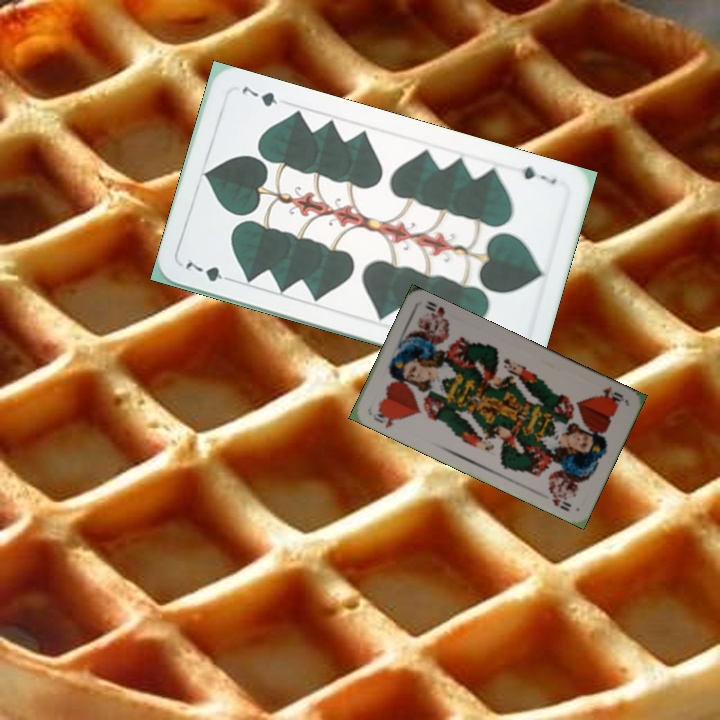G7: (181, 254, 237, 285), (510, 162, 559, 187)
HO: (368, 406, 404, 431), (596, 383, 627, 407)
